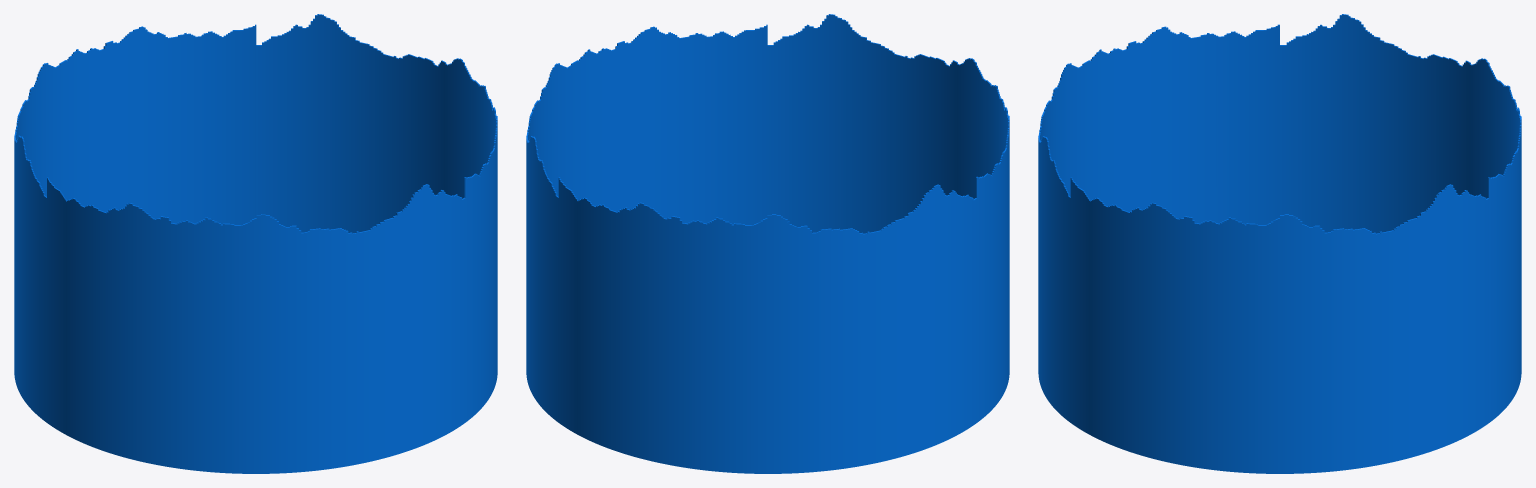
File: MOUNTAINS_C.fbx
The picture shows the model from 3 angles, left to right: view 1: azimuth 30°, elevation 25°; view 2: azimuth 150°, elevation 25°; view 3: azimuth 270°, elevation 25°; orthographic projection.
Visible parts, largest first — view 1: MOUNTAINS_C; view 2: MOUNTAINS_C; view 3: MOUNTAINS_C.
Boxes of the visible parts, left/top/right/bottom form: MOUNTAINS_C: left=14, top=14, right=497, bottom=473; MOUNTAINS_C: left=526, top=14, right=1009, bottom=473; MOUNTAINS_C: left=1038, top=14, right=1521, bottom=473.
Size of the model in its own units: 13190 by 7808 by 13190.
